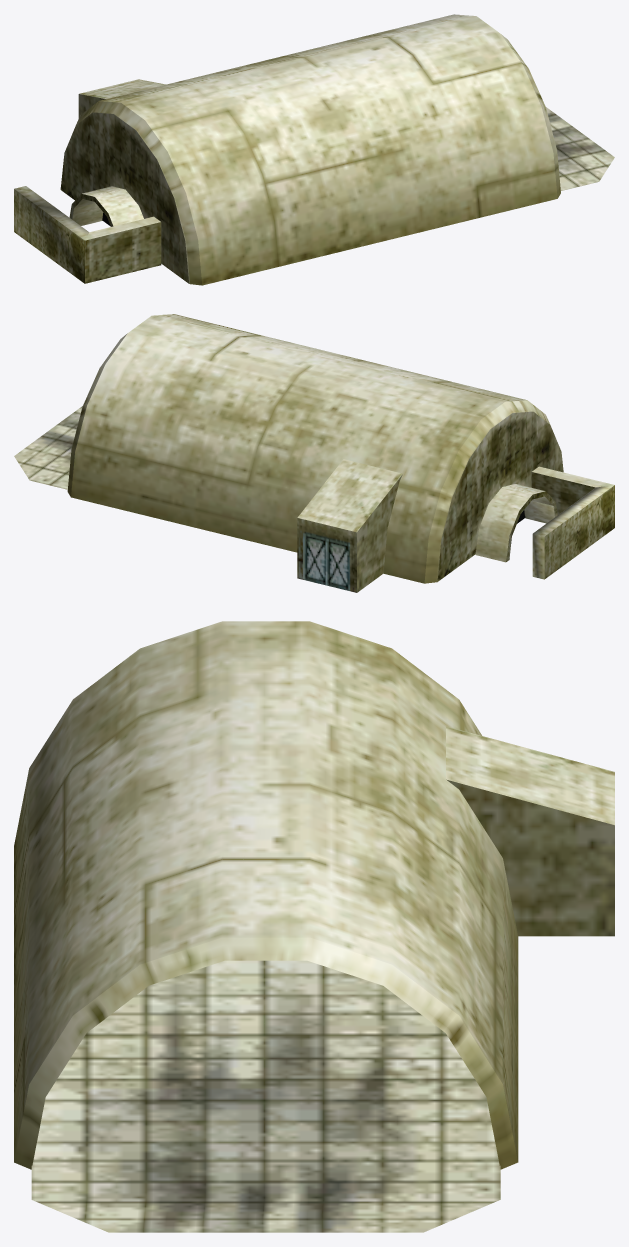
Rendered from Civilian - Civilian Building - Stan Hanger 01 - Night - CBTHanger1_n.glb.
3 views of the same model, one above another, from view 1: azimuth 30°, elevation 25°; view 2: azimuth 150°, elevation 25°; view 3: azimuth 270°, elevation 25° (orthographic). The views are drawn at different scales.
Parts seen in each view (by area): view 1: CBTHANGER1_N; view 2: CBTHANGER1_N; view 3: CBTHANGER1_N.
Boxes of the visible parts, x1,y1,x2,y2 form: CBTHANGER1_N: (14,14,614,285); CBTHANGER1_N: (14,314,614,592); CBTHANGER1_N: (14,621,614,1232).
Bounding box in the file's own units: 97.92 × 22.21 × 53.35.
Materials: 1 (1 with a texture image).
